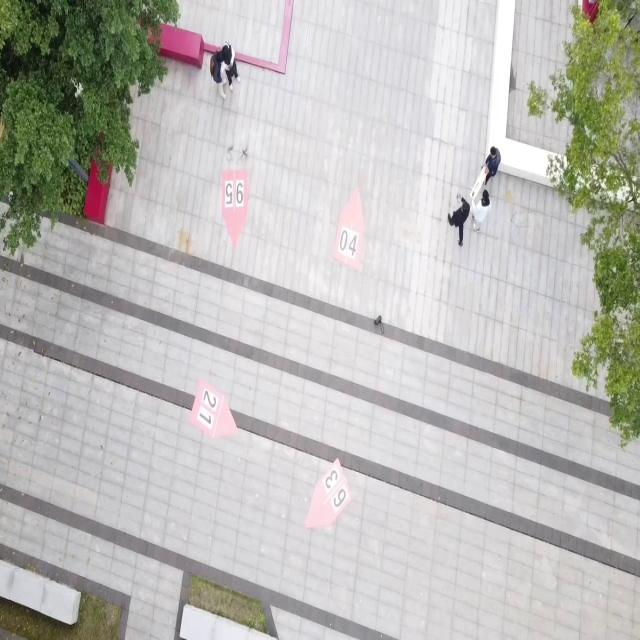-sign-: (304, 452, 358, 534), (189, 377, 239, 441), (333, 187, 366, 272), (221, 168, 248, 248)
